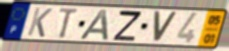4: (174, 11, 199, 46)
A: (78, 8, 111, 42)
K: (25, 6, 54, 39)
T: (57, 7, 80, 40)
V: (152, 10, 179, 44)
Z: (112, 10, 144, 43)
